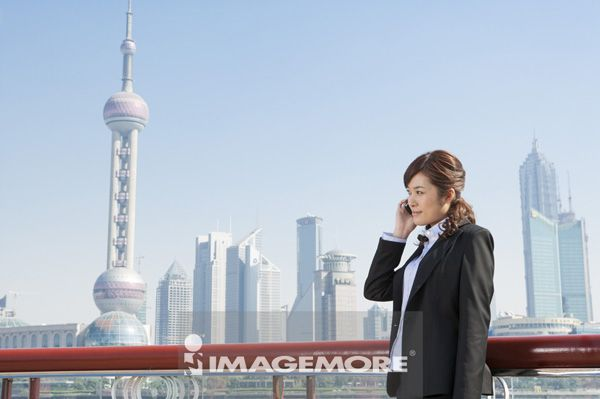talk: (393, 181, 431, 239)
